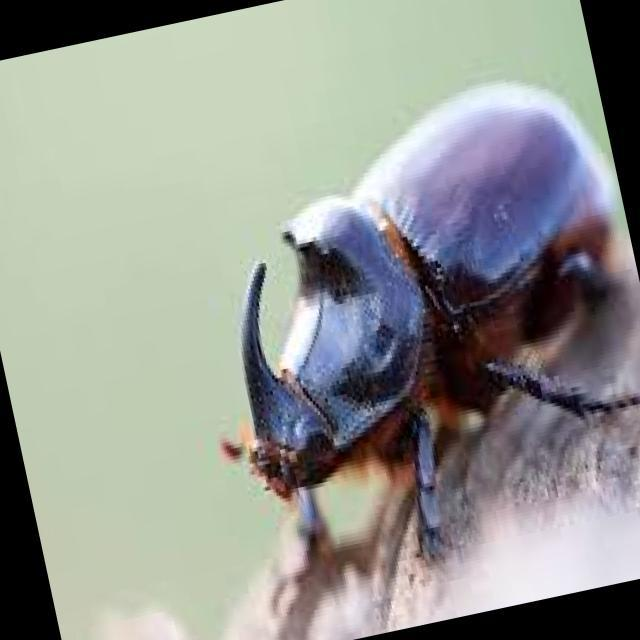Rhino-beetle: (210, 92, 620, 532)
